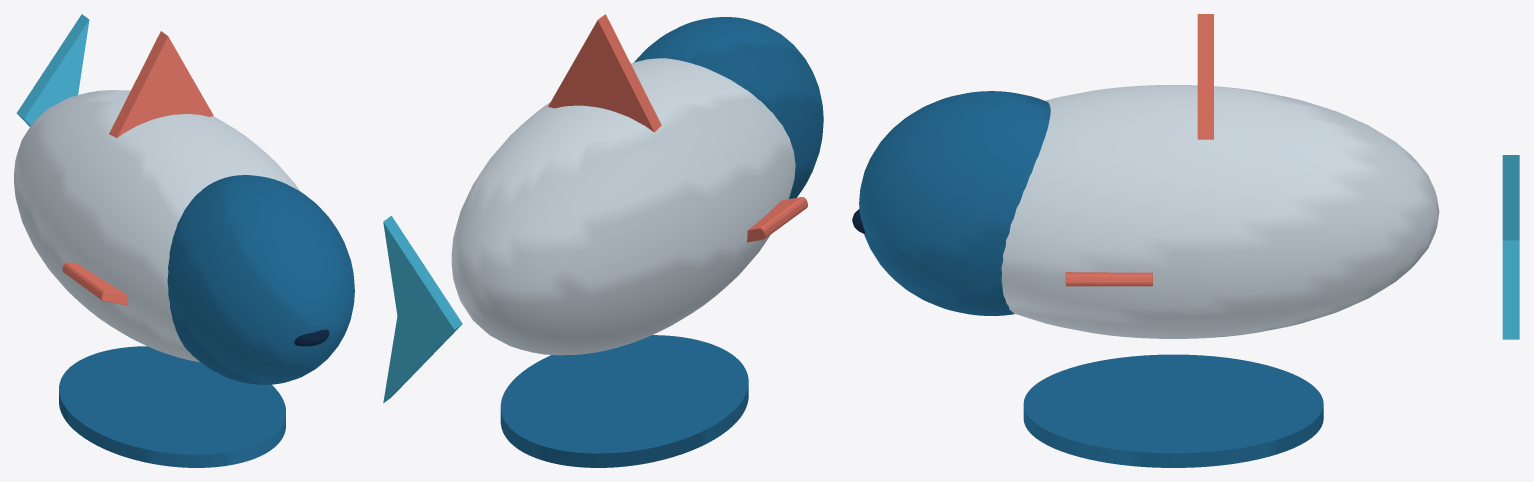
The model's file is 1161_海底两万里_珊瑚王国.glb.
3 renders of one model, left to right at view 1: azimuth 30°, elevation 25°; view 2: azimuth 150°, elevation 25°; view 3: azimuth 270°, elevation 25°, orthographic. The views are drawn at different scales.
Visible parts, largest first — view 1: card_1161; view 2: card_1161; view 3: card_1161.
Boxes of the visible parts, box(x1,y1,x2,y2) form: card_1161: box(14, 14, 354, 467); card_1161: box(383, 14, 823, 467); card_1161: box(852, 14, 1519, 467).
Bounding box in the file's own units: 0.6803 × 1 × 1.48.
